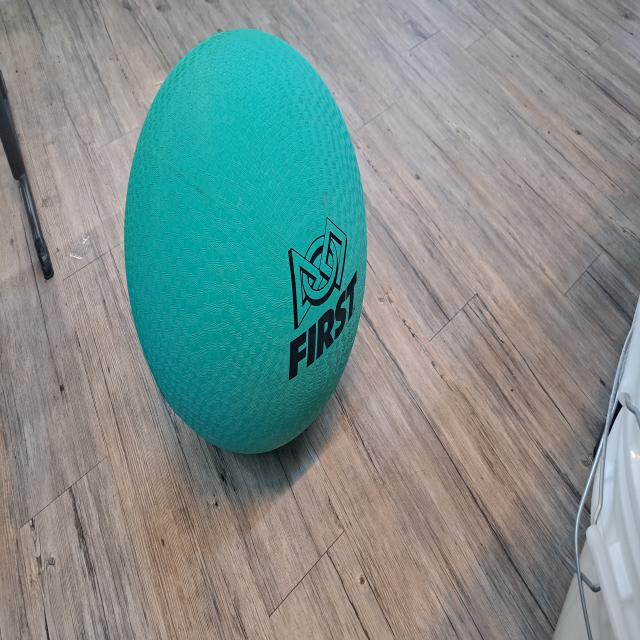ALGAE: (123, 27, 368, 456)
